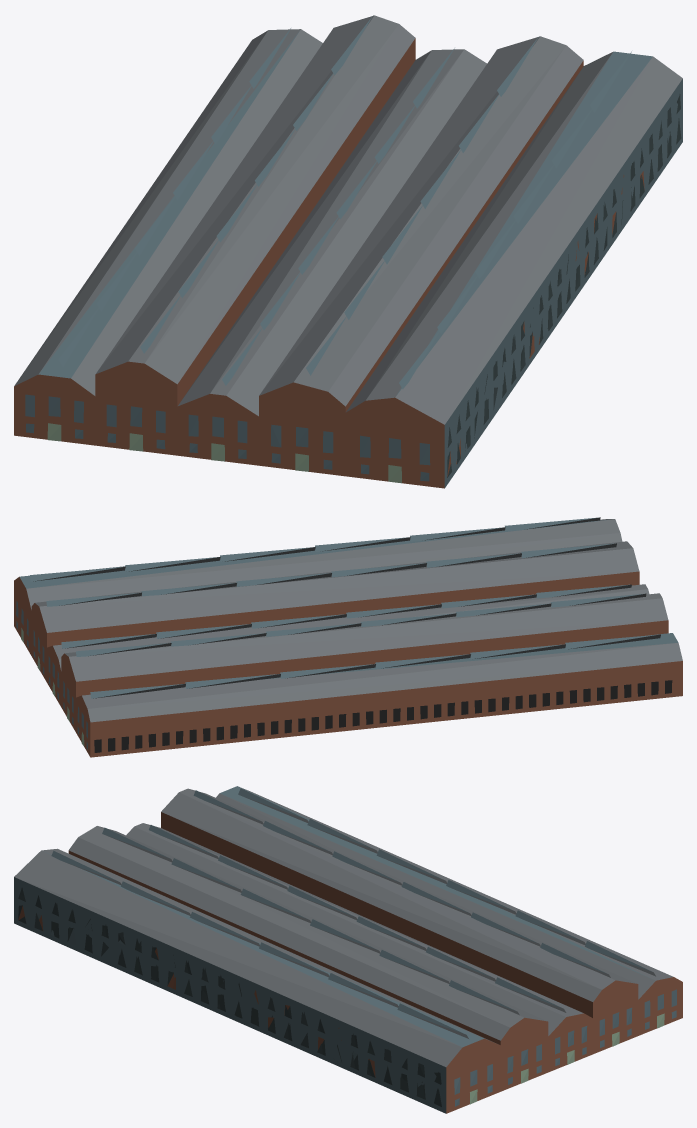
Rendered from van-gendt-hallen.lod2.glb.
3 renders of one model, top to bottom at view 1: azimuth 30°, elevation 25°; view 2: azimuth 150°, elevation 25°; view 3: azimuth 270°, elevation 25°, orthographic. The views are drawn at different scales.
Visible parts, largest first — view 1: lod2; view 2: lod2; view 3: lod2.
Part boxes in pixels (x1=…): lod2: x1=14, y1=15, x2=682, y2=488; lod2: x1=14, y1=517, x2=682, y2=757; lod2: x1=14, y1=786, x2=682, y2=1113.
Size of the model in its own units: 170 by 19.14 by 168.
